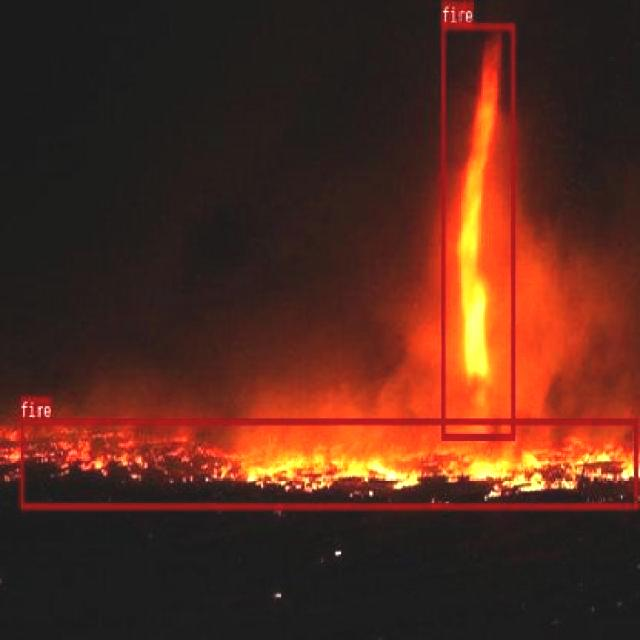fire: (19, 418, 638, 508), (440, 23, 514, 439)
